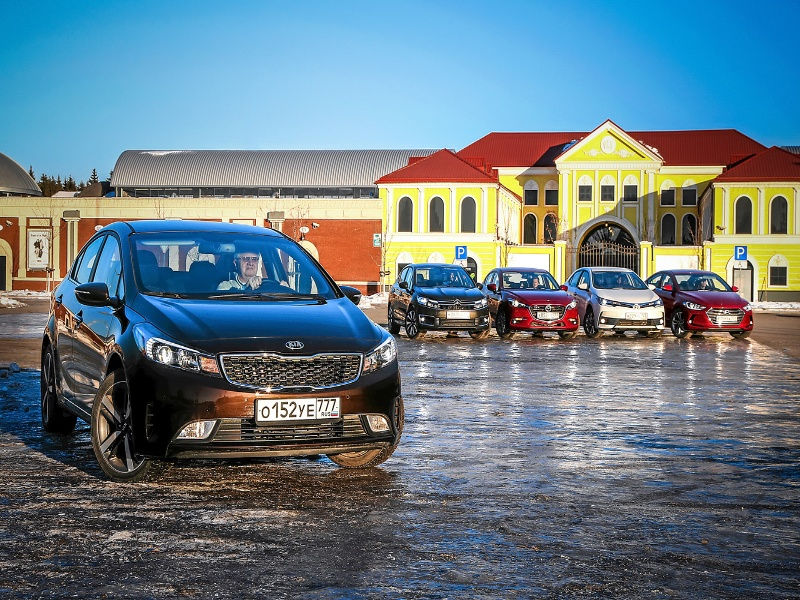car: (40, 222, 405, 480), (388, 264, 488, 340), (644, 270, 754, 339), (566, 266, 665, 339), (483, 267, 577, 338)
person: (217, 251, 262, 290), (532, 277, 539, 287)
plate: (255, 398, 340, 420), (447, 310, 470, 319), (626, 312, 647, 320), (537, 312, 559, 318), (717, 316, 737, 322)
